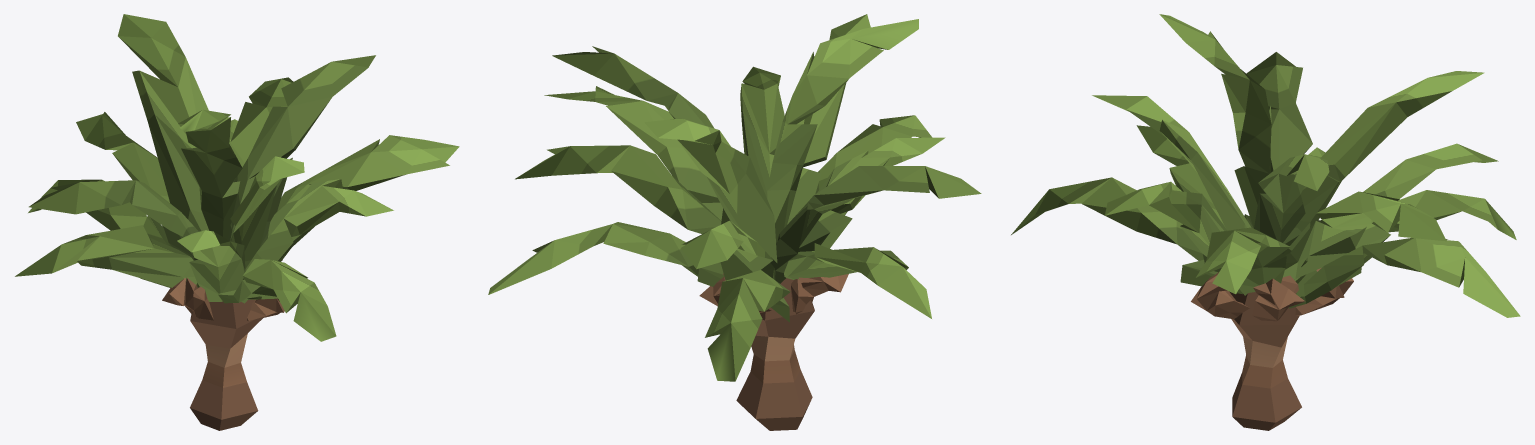
The model's file is SM_Env_Tree_Bush_01.fbx.
3 views of the same model, side by side, from view 1: azimuth 30°, elevation 25°; view 2: azimuth 150°, elevation 25°; view 3: azimuth 270°, elevation 25° (orthographic). The views are drawn at different scales.
Parts seen in each view (by area): view 1: SM_Env_Tree_Bush_01; view 2: SM_Env_Tree_Bush_01; view 3: SM_Env_Tree_Bush_01.
Boxes of the visible parts, box(x1,y1,x2,y2) form: SM_Env_Tree_Bush_01: box(15, 14, 459, 430); SM_Env_Tree_Bush_01: box(488, 14, 981, 430); SM_Env_Tree_Bush_01: box(1011, 14, 1520, 430).
Size of the model in its own units: 251 by 202 by 252.
